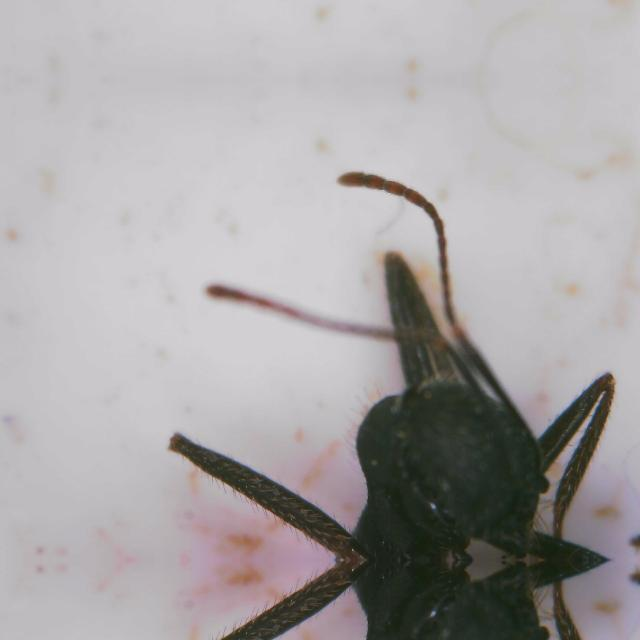Apheanogaster: (116, 156, 640, 560)
